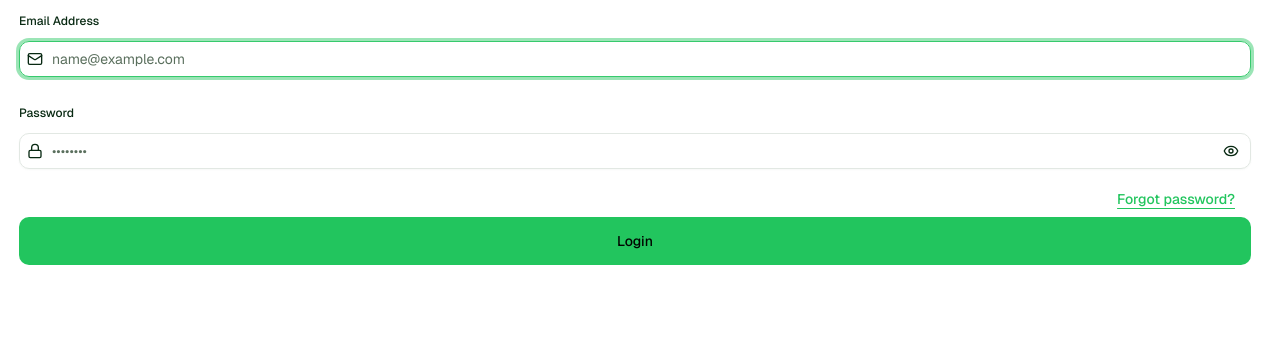
LoginForm › Form Validation › should show password error for a password that is too short
In the password field with placeholder "••••••••": (635, 151) [19,133,1251,169], type "123"
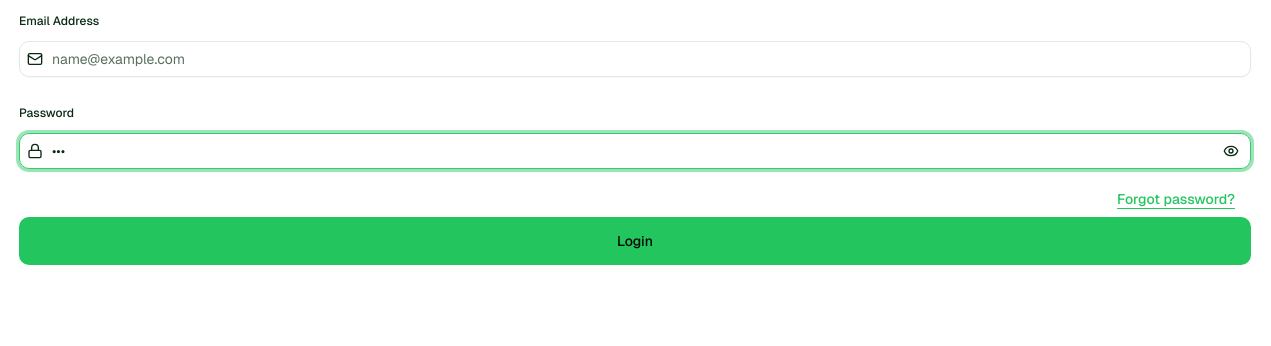
Click the button "Login": (635, 241) [19,217,1251,265]
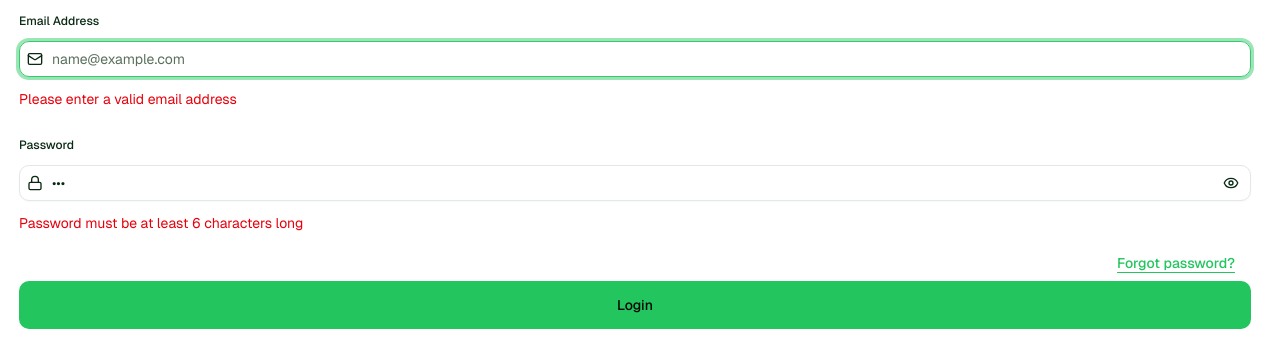
Expected: the text "Password must be at least 6 characters long" is shown, [19,214,303,232]
